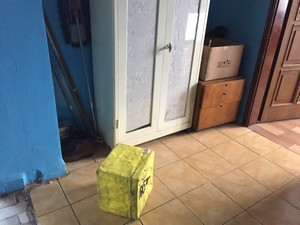cube: (96, 145, 157, 219)
